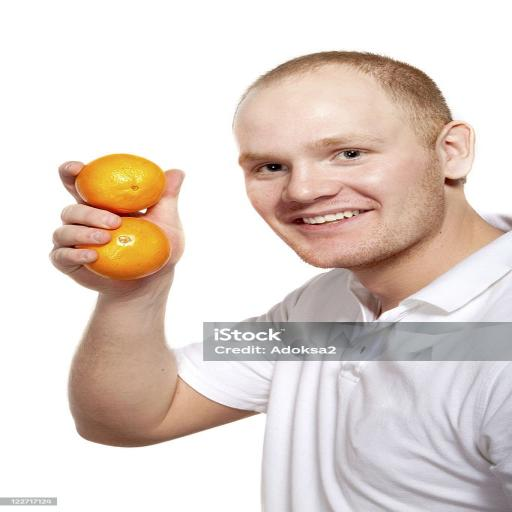orange: (76, 217, 170, 279), (75, 154, 165, 213)
